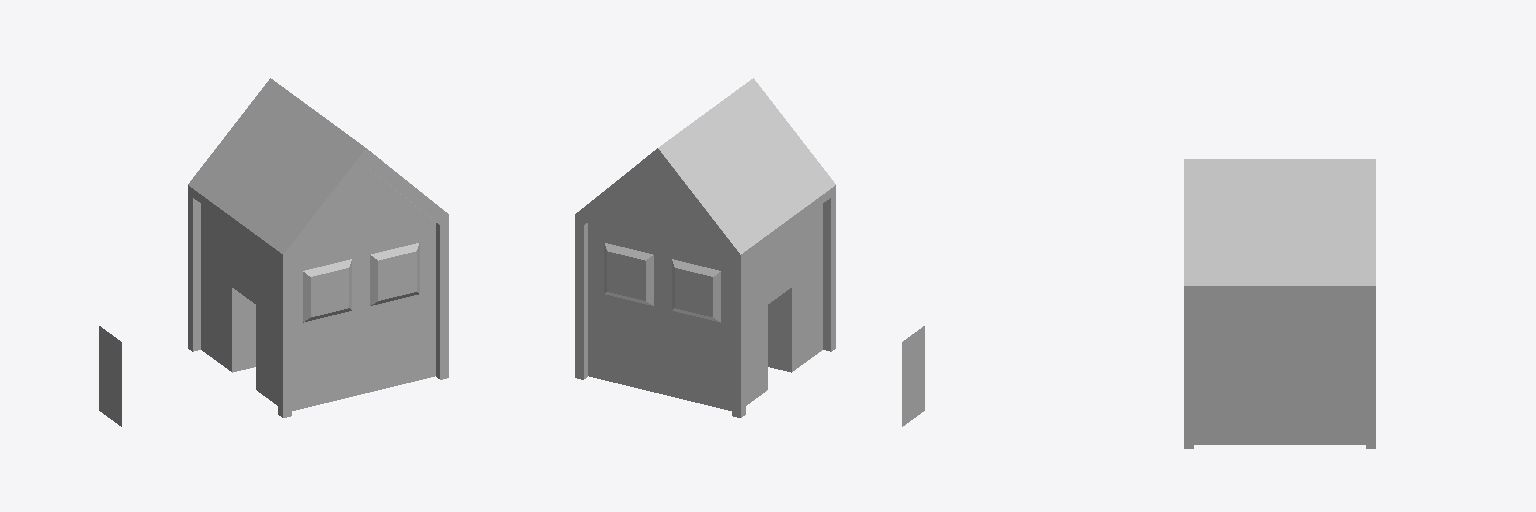
Rendered from Dr_FlubberGhast_Cabin.obj.
3 views of the same model, side by side, from view 1: azimuth 30°, elevation 25°; view 2: azimuth 150°, elevation 25°; view 3: azimuth 270°, elevation 25° (orthographic).
Visible parts, largest first — view 1: cabin_1.004, cabin_1.003, cabin_1.002, cabin_1.005, cabin_1.006; view 2: cabin_1.004, cabin_1.003, cabin_1.002, cabin_1.005, cabin_1.006; view 3: cabin_1.004, cabin_1.003, cabin_1.002.
Part boxes in pixels (x1,y1,x2,y2): cabin_1.004: (201,166,435,410); cabin_1.003: (188,78,365,254); cabin_1.002: (188,148,448,417); cabin_1.005: (303,243,419,322); cabin_1.006: (99,326,121,426); cabin_1.004: (588,166,822,410); cabin_1.003: (658,78,835,254); cabin_1.002: (575,148,835,417); cabin_1.005: (604,243,720,322); cabin_1.006: (902,326,924,426); cabin_1.004: (1194,295,1365,444); cabin_1.003: (1184,159,1375,285); cabin_1.002: (1184,286,1375,448).
Bounding box in the file's own units: 3.91 × 3.29 × 2.23.